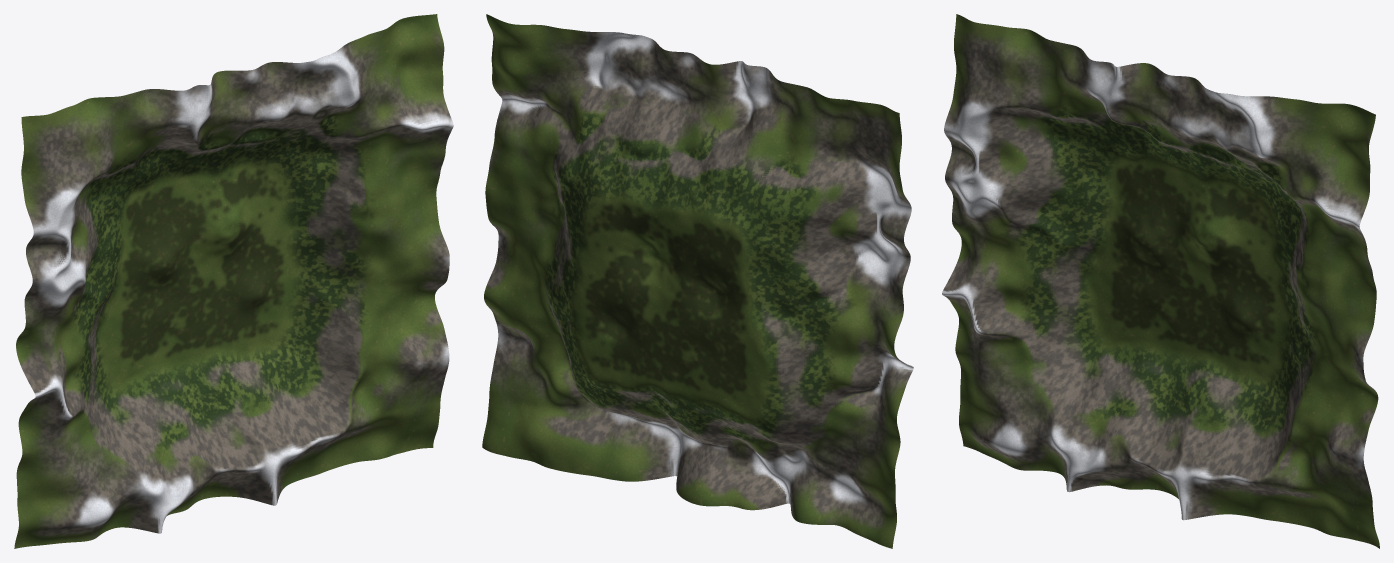
Rendered from terreno.obj.
The picture shows the model from 3 angles, left to right: view 1: azimuth 30°, elevation 25°; view 2: azimuth 150°, elevation 25°; view 3: azimuth 330°, elevation 25°; orthographic projection.
Bounding box in the file's own units: 1200 × 1200 × 221.
Materials: 1 (1 with a texture image).
